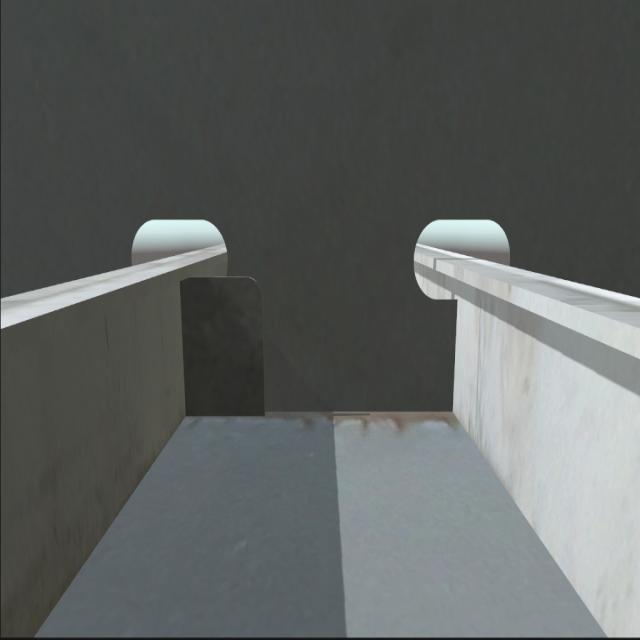fillet_yong_jeop_jang: (183, 405, 454, 419)
longi_yong_jeop_jang: (175, 278, 194, 413), (447, 302, 464, 425)
plate_CP05: (178, 274, 266, 426)
